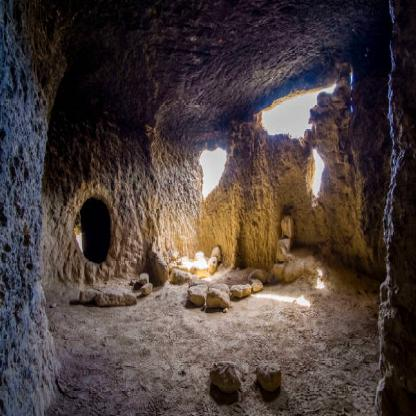Sedimentary_Sandstone: (0, 2, 62, 415), (62, 0, 376, 76), (388, 8, 416, 415), (76, 110, 191, 160)
